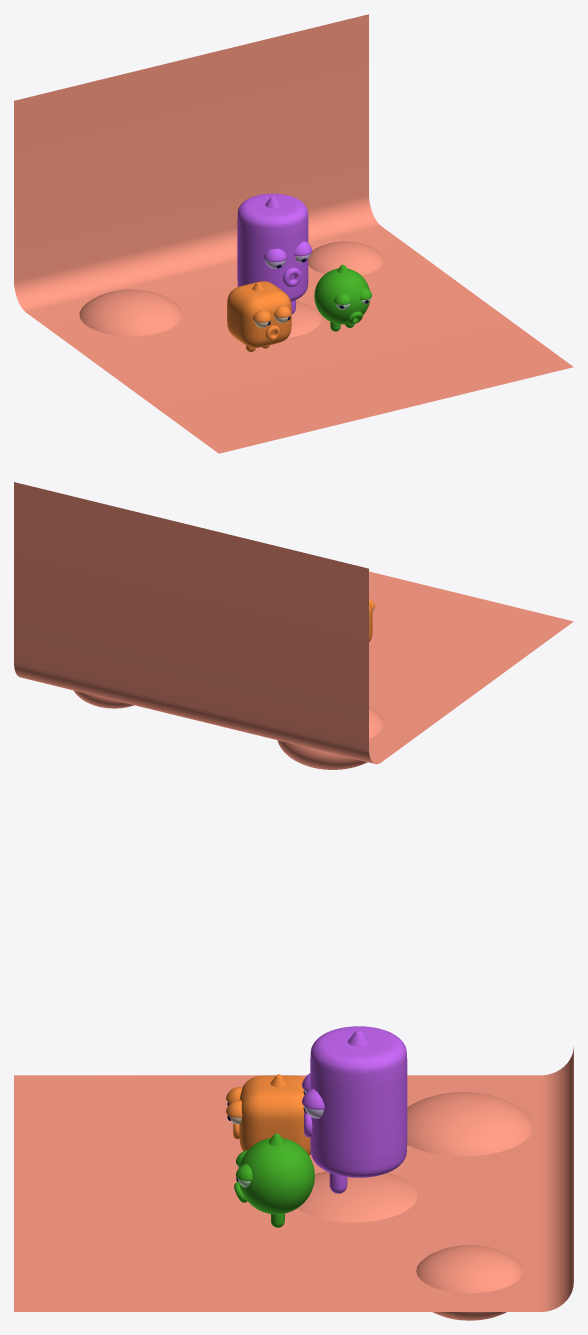
File: tfb.glb
3 views of the same model, one above another, from view 1: azimuth 30°, elevation 25°; view 2: azimuth 150°, elevation 25°; view 3: azimuth 270°, elevation 25° (orthographic). The views are drawn at different scales.
Parts seen in each view (by area): view 1: 平面, 柱体.004, 球体.020, Cube, 球体.006, 球体.021, 球体.019; view 2: 平面, 球体.020, 球体.021; view 3: 平面, 柱体.004, 球体.020, 球体.021, 球体.019, 球体.006, Cube.
Part boxes in pixels (x1,y1,x2,y2): 平面: (14, 14, 573, 453); 柱体.004: (237, 193, 308, 301); 球体.020: (79, 289, 182, 336); Cube: (227, 281, 291, 347); 球体.006: (314, 268, 369, 324); 球体.021: (308, 241, 384, 274); 球体.019: (288, 301, 321, 337); 平面: (14, 482, 573, 764); 球体.020: (277, 706, 384, 769); 球体.021: (73, 690, 133, 708); 平面: (14, 1047, 573, 1311); 柱体.004: (310, 1026, 407, 1177); 球体.020: (407, 1092, 533, 1156); 球体.021: (416, 1245, 522, 1320); 球体.019: (297, 1171, 417, 1222); 球体.006: (239, 1138, 314, 1214); Cube: (239, 1075, 310, 1155).
Bounding box in the file's own units: 14.45 × 9.36 × 14.45.
